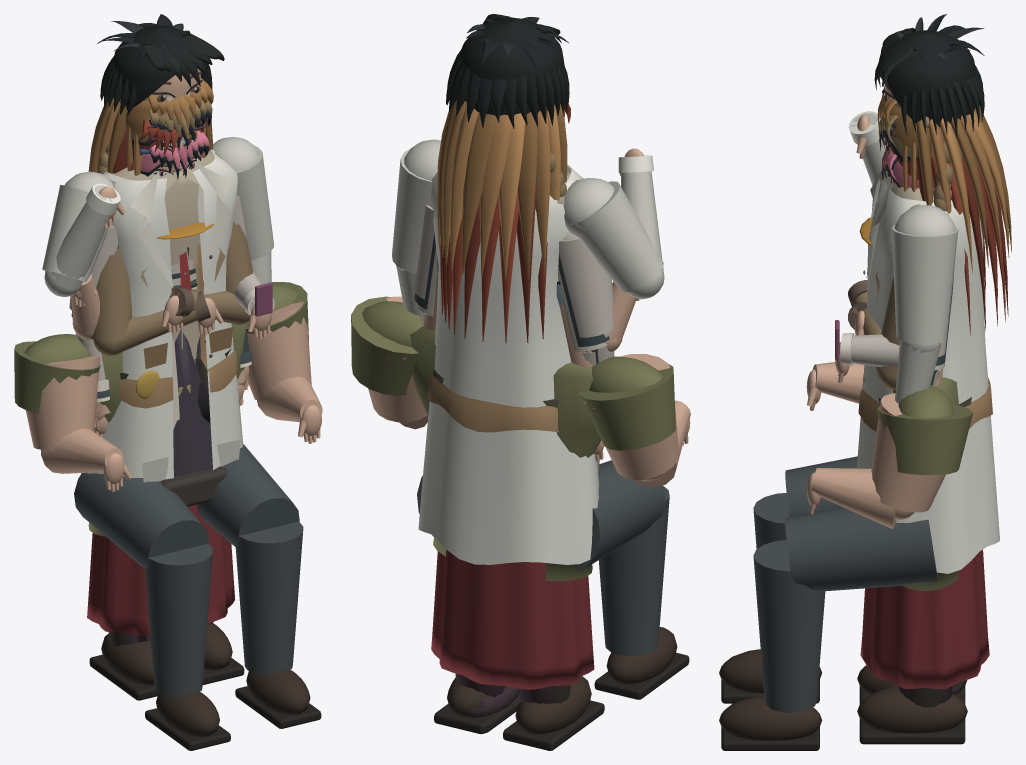
The model's file is lab-members.glb.
The picture shows the model from 3 angles, left to right: view 1: azimuth 30°, elevation 25°; view 2: azimuth 150°, elevation 25°; view 3: azimuth 270°, elevation 25°; orthographic projection. The views are drawn at different scales.
Visible parts, largest first — view 1: daru, okabe_body, daru_arm_L, okabe_head, daru_arm_R, luka_body, okabe_arm_L, kurisu_arm_L, okabe, kurisu_body, moeka_head, okabe_arm_R (+12 smaller); view 2: okabe_body, luka_body, moeka_head, daru, okabe_head, daru_arm_L, okabe_arm_L, daru_arm_R, okabe, kurisu_head, daru_body, okabe_arm_R (+9 smaller); view 3: daru, okabe_body, daru_arm_R, luka_body, okabe_arm_R, okabe_head, moeka_head, okabe, kurisu_head, moeka_arm_R, daru_arm_L, kurisu_arm_R (+5 smaller).
Part boxes in pixels (bbox=[...]): daru: bbox=[74, 444, 321, 750]; okabe_body: bbox=[81, 149, 243, 482]; daru_arm_L: bbox=[14, 334, 131, 491]; okabe_head: bbox=[97, 14, 224, 116]; daru_arm_R: bbox=[245, 282, 322, 443]; luka_body: bbox=[87, 273, 235, 636]; okabe_arm_L: bbox=[42, 171, 125, 296]; kurisu_arm_L: bbox=[91, 248, 223, 355]; okabe: bbox=[89, 348, 244, 700]; kurisu_body: bbox=[119, 244, 237, 423]; moeka_head: bbox=[88, 77, 213, 175]; okabe_arm_R: bbox=[213, 137, 273, 284]; okabe_body: bbox=[418, 165, 599, 564]; luka_body: bbox=[431, 549, 594, 689]; moeka_head: bbox=[436, 100, 567, 279]; daru: bbox=[417, 460, 689, 699]; okabe_head: bbox=[446, 14, 569, 128]; daru_arm_L: bbox=[579, 354, 690, 486]; okabe_arm_L: bbox=[563, 148, 664, 298]; daru_arm_R: bbox=[351, 296, 427, 429]; okabe: bbox=[433, 369, 604, 750]; kurisu_head: bbox=[440, 104, 570, 343]; daru_body: bbox=[409, 326, 601, 581]; okabe_arm_R: bbox=[392, 139, 440, 315]; daru: bbox=[719, 456, 938, 750]; okabe_body: bbox=[857, 169, 999, 573]; daru_arm_R: bbox=[806, 385, 972, 528]; luka_body: bbox=[860, 549, 989, 688]; okabe_arm_R: bbox=[892, 205, 958, 403]; okabe_head: bbox=[874, 14, 984, 138]; moeka_head: bbox=[877, 86, 1011, 272]; okabe: bbox=[857, 397, 971, 744]; kurisu_head: bbox=[881, 137, 1008, 335]; moeka_arm_R: bbox=[835, 259, 955, 383]; daru_arm_L: bbox=[806, 362, 864, 410]; kurisu_arm_R: bbox=[848, 277, 899, 389].
Size of the model in its own units: 0.8371 by 1.79 by 0.6937.
